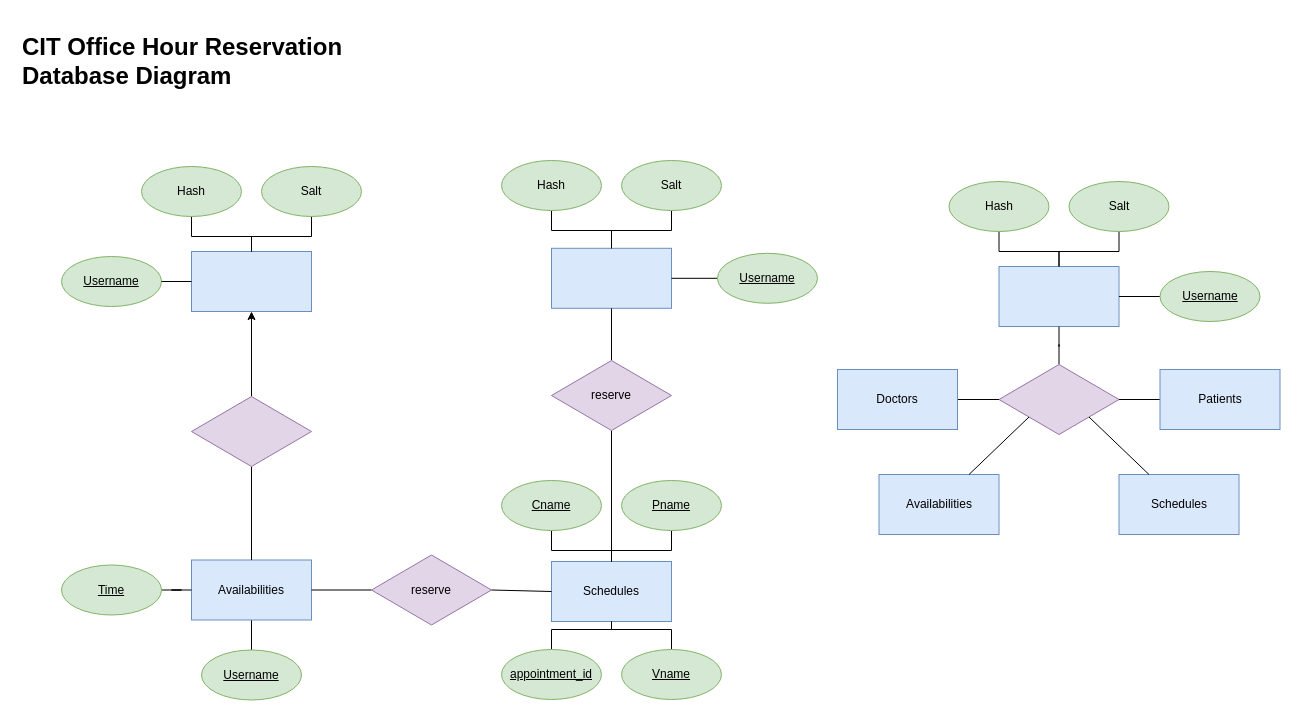
Image size: 1297x717. Some labels were removed from this diagram. The centre of each missing label's shape, as x and y in pixels:
Admins: pixel 1058 296
have: pixel 251 431
Instructors: pixel 251 281
manage: pixel 1058 399
Students: pixel 611 277
